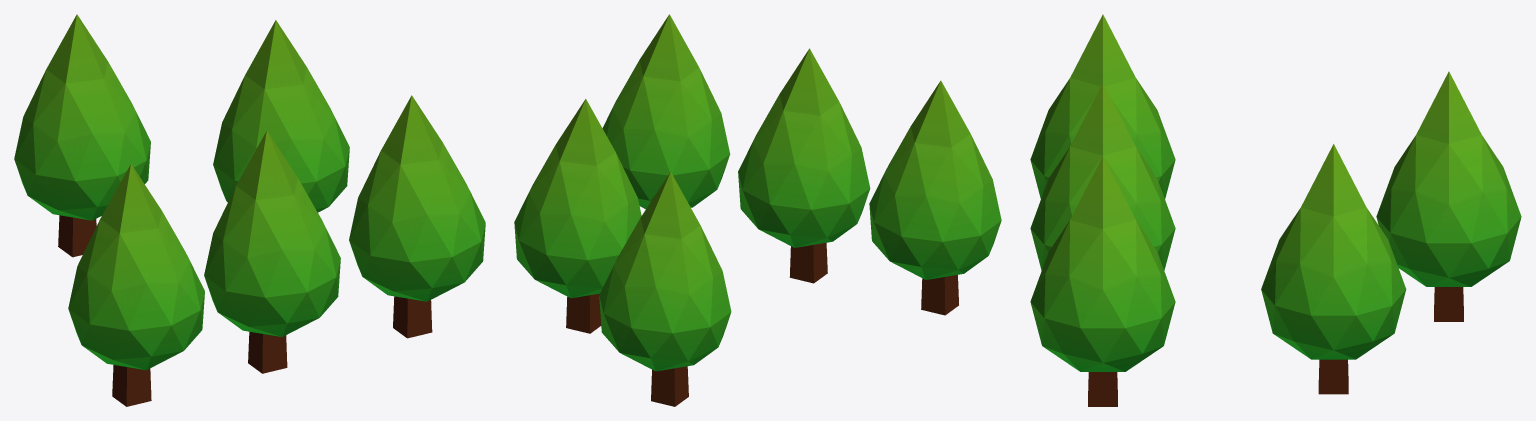
File: tree.glb
3 renders of one model, left to right at view 1: azimuth 30°, elevation 25°; view 2: azimuth 150°, elevation 25°; view 3: azimuth 270°, elevation 25°, orthographic. The views are drawn at different scales.
Parts seen in each view (by area): view 1: treetop (×5), trunk (×4); view 2: treetop (×5), trunk (×4); view 3: treetop (×5), trunk (×3).
Boxes of the visible parts, box(x1,y1,x2,y2) form: treetop (×5): box(14, 14, 485, 370); trunk (×4): box(58, 215, 432, 406); treetop (×5): box(514, 14, 1001, 371); trunk (×4): box(566, 243, 958, 406); treetop (×5): box(1030, 14, 1521, 371); trunk (×3): box(1088, 287, 1463, 406).
Size of the model in its own units: 0.0249 by 0.0142 by 0.0258.
Materials: 10 (5 with a texture image).
